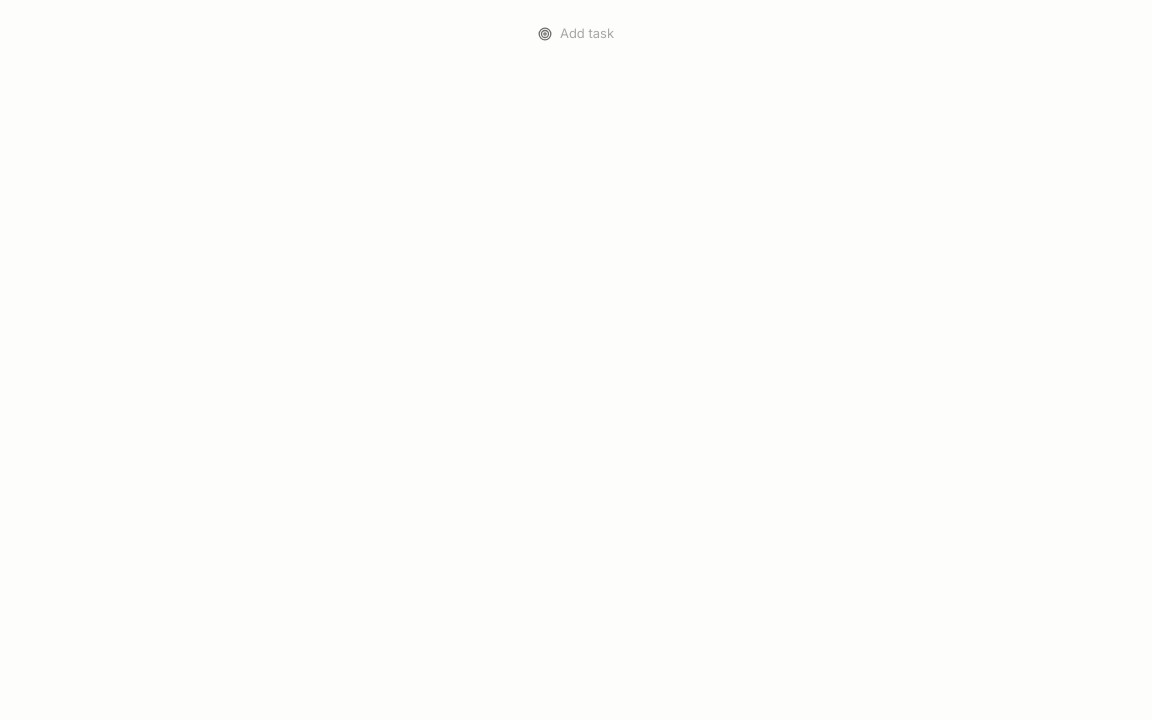
Scenario: FocusTaskPicker › [T2] shows today's + overdue tasks for guest mode via mockStore
This screenshot has width=1152, height=720.
Click the button with aria-label "Select focus task": (576, 34) x1=526 y1=16 x2=626 y2=52
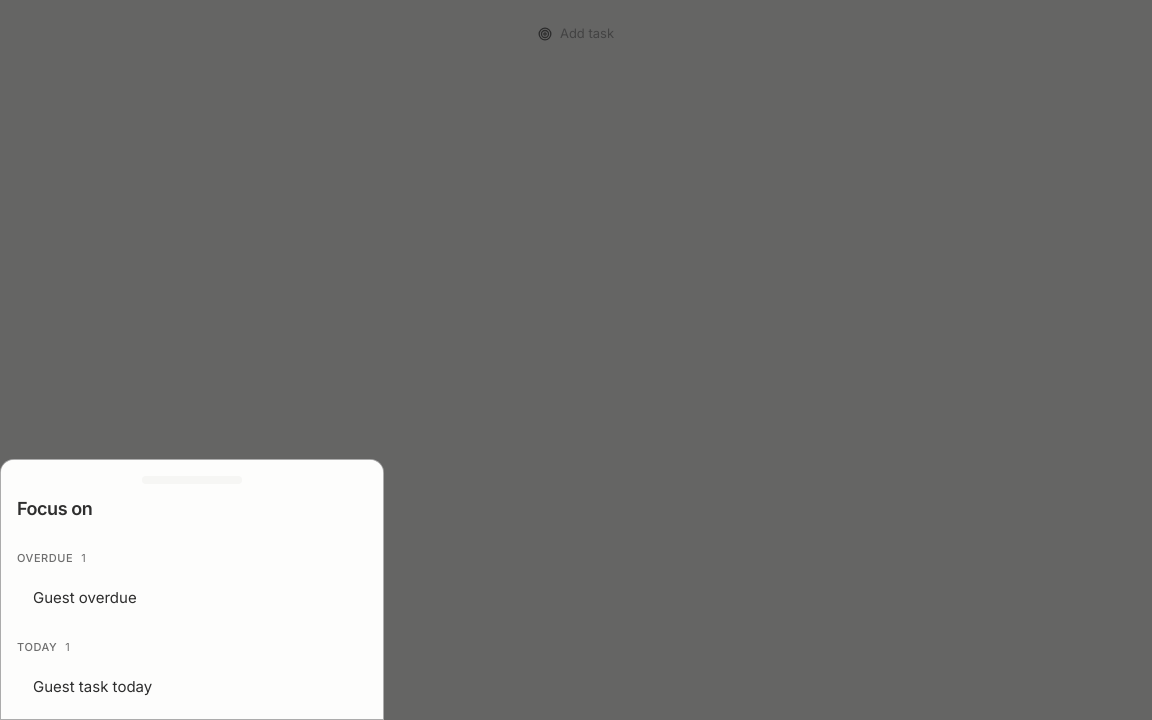
Now the text "Guest task today" is shown, box x1=33 y1=677 x2=152 y2=696
Now the text "Guest overdue" is shown, box x1=33 y1=588 x2=137 y2=607
